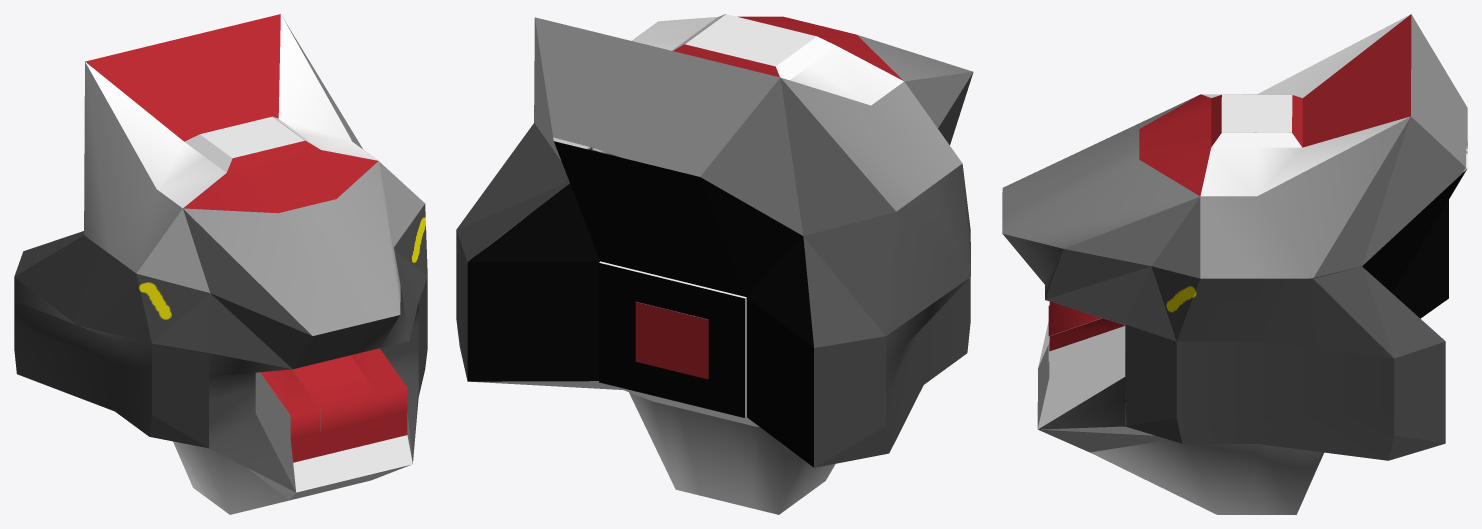
Rendered from player.obj.
The picture shows the model from 3 angles, left to right: view 1: azimuth 30°, elevation 25°; view 2: azimuth 150°, elevation 25°; view 3: azimuth 270°, elevation 25°; orthographic projection. The views are drawn at different scales.
Visible parts, largest first — view 1: Body; view 2: Body; view 3: Body.
Boxes of the visible parts, x1,y1,x2,y2 form: Body: (14,14,427,514); Body: (456,14,973,514); Body: (1002,14,1467,514).
Size of the model in its own units: 0.9375 by 1.04 by 1.02.
Materials: 1 (1 with a texture image).
